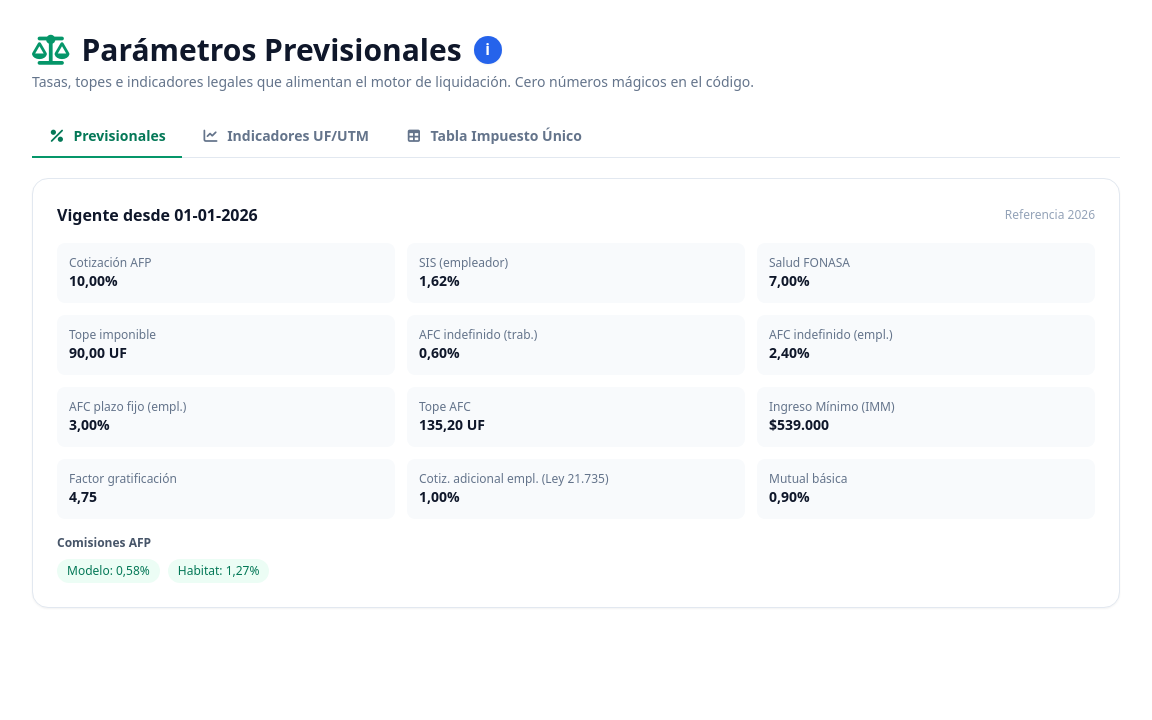
Scenario: ParametrosRrhh › cambia a la pestaña de indicadores y lista el periodo
Expected: the text "Cotización AFP" is shown, [69,254,152,271]
Click the button "Indicadores UF/UTM" at (285, 137), box [186,116,385,158]
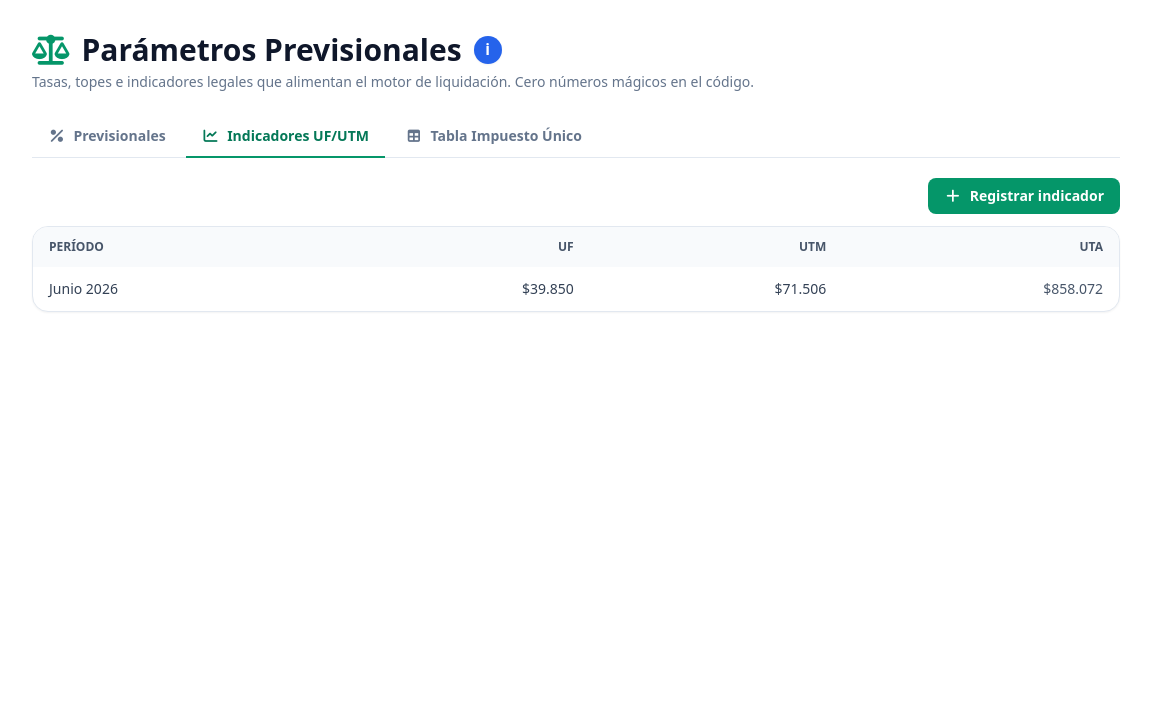
Expected: the text "Junio 2026" is shown, [33,267,337,311]
